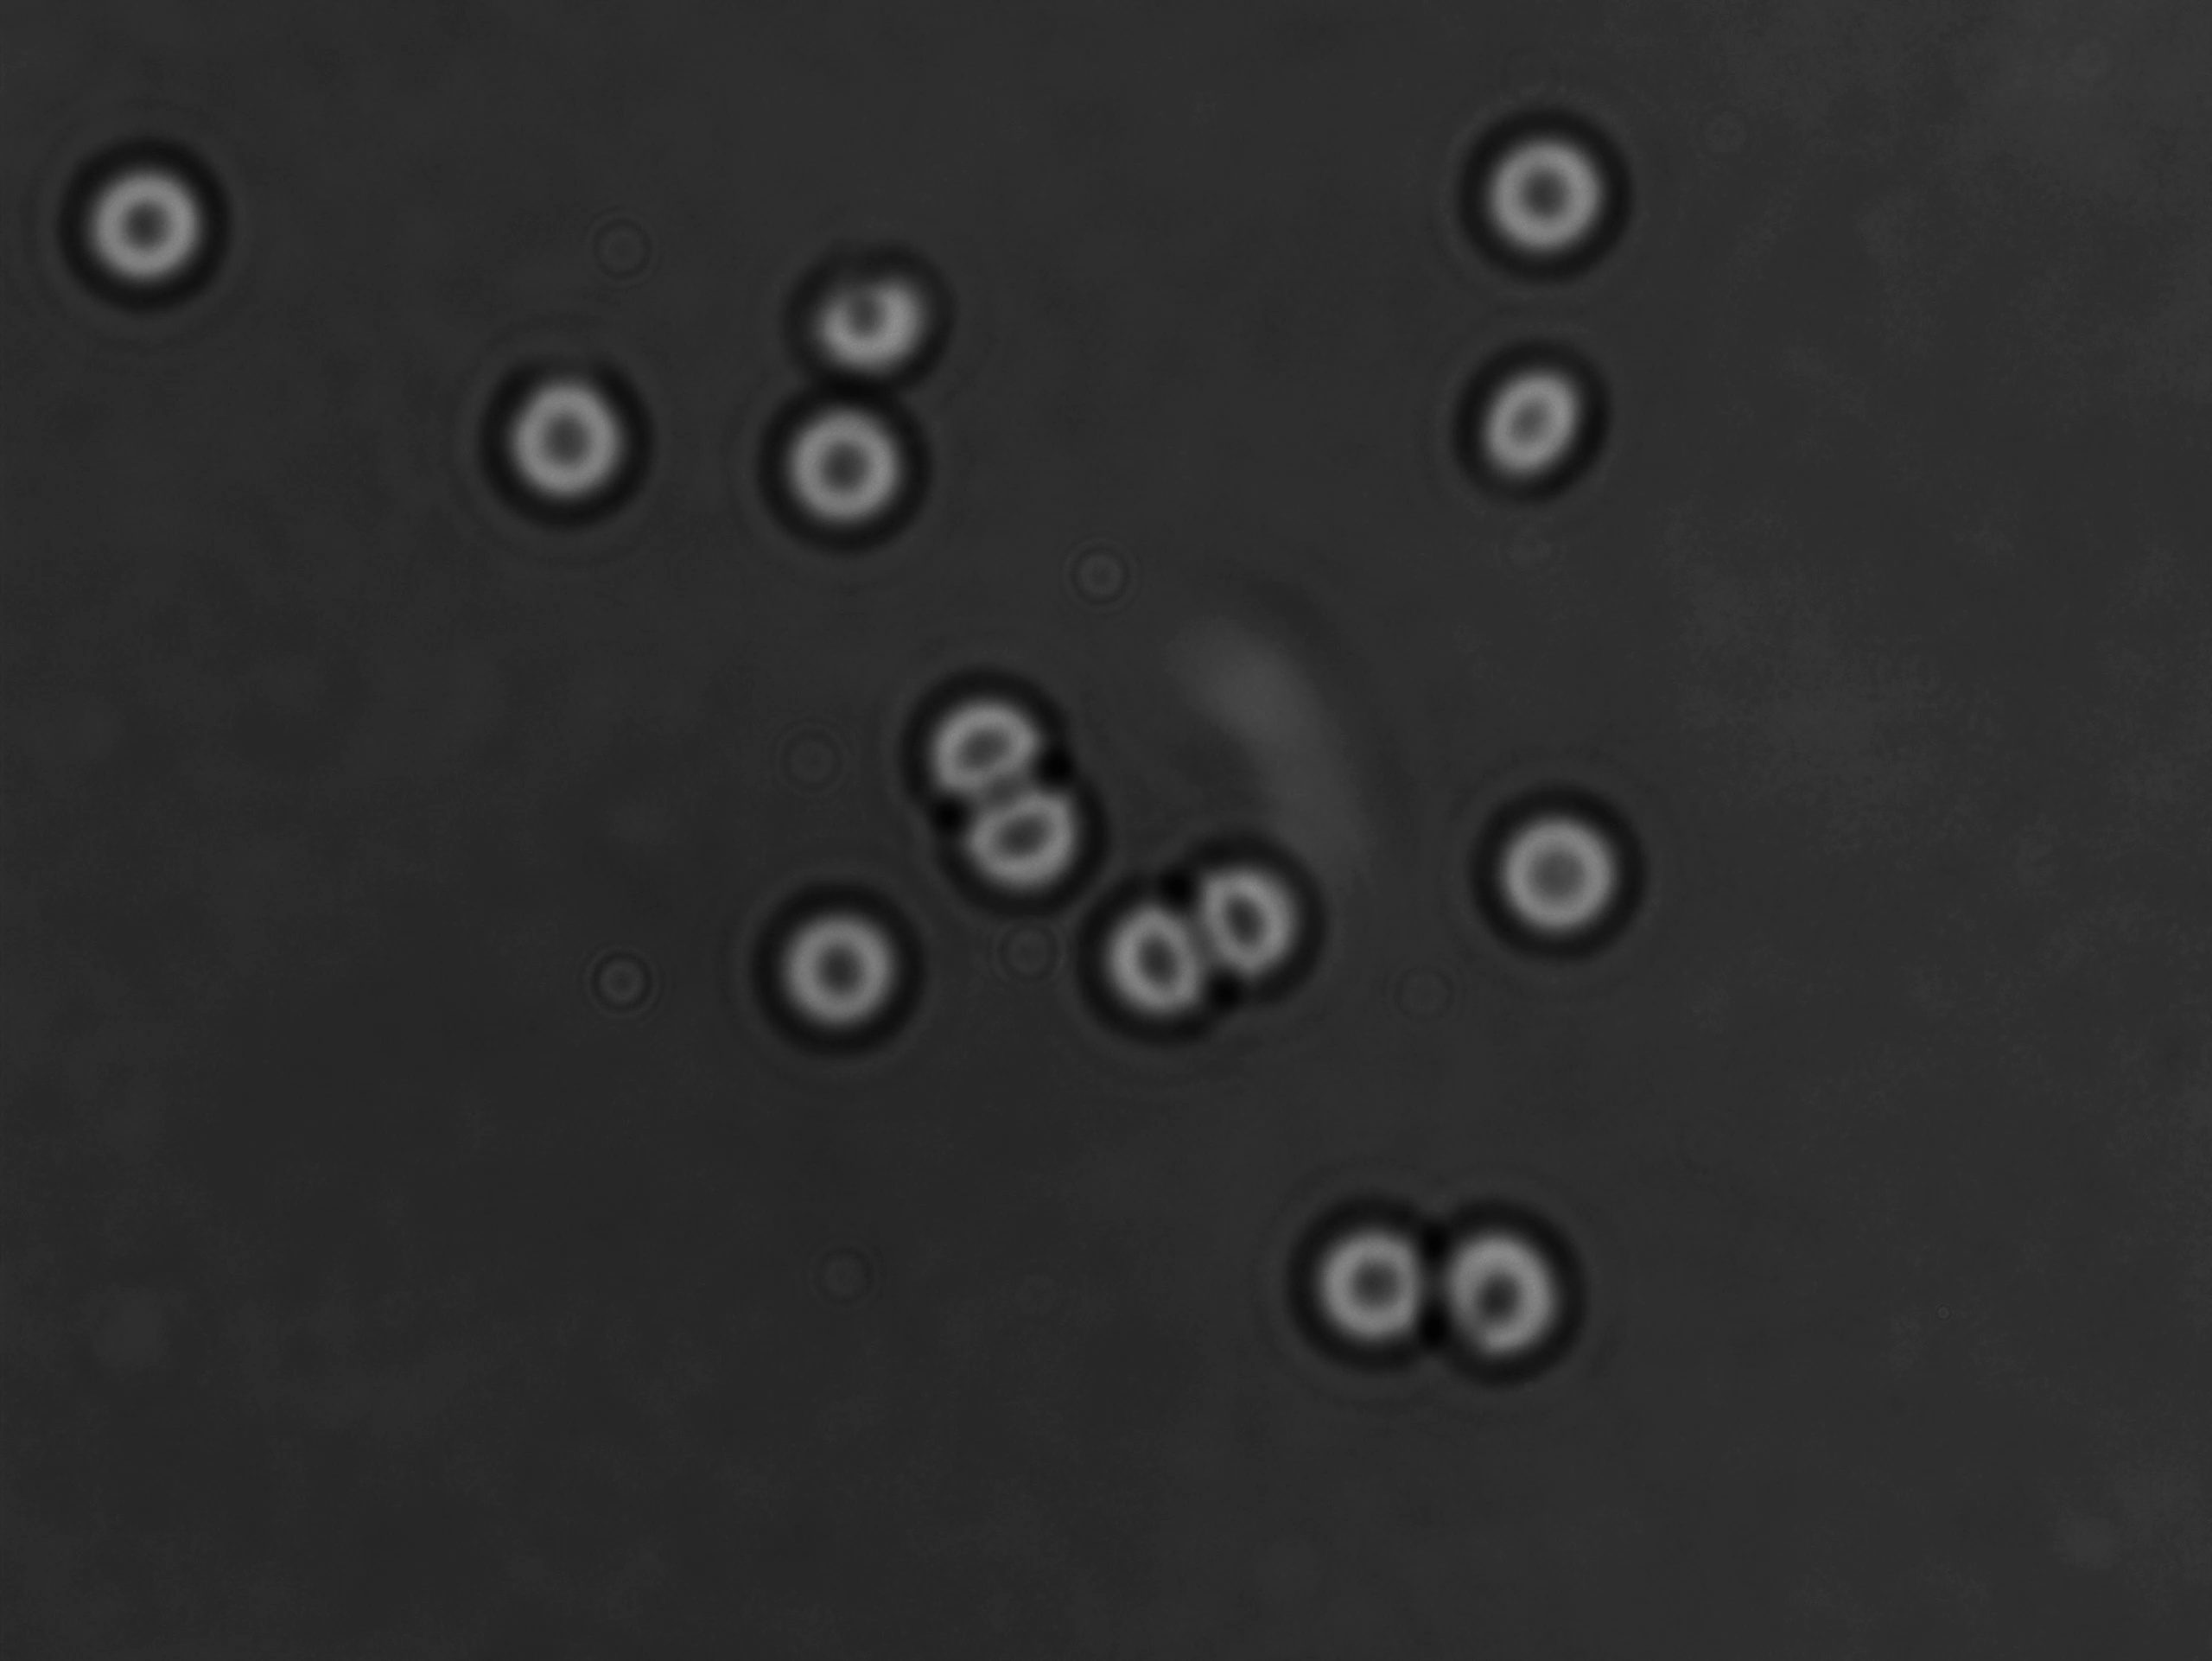depth:80: (1258, 1172, 1485, 1378), (1462, 764, 1671, 967), (1446, 92, 1659, 291), (1413, 1181, 1626, 1380), (879, 647, 1097, 839), (921, 740, 1134, 935), (52, 129, 256, 332), (747, 366, 954, 565), (1059, 857, 1272, 1049), (743, 862, 947, 1059), (471, 338, 675, 525), (1158, 827, 1361, 1008)
